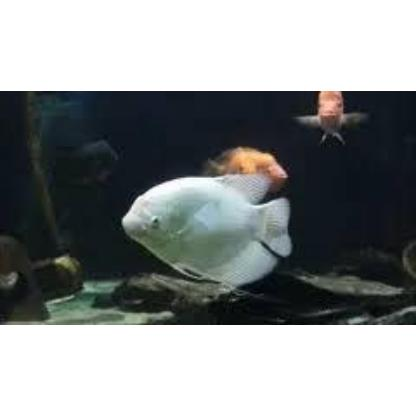gurame: (122, 174, 292, 286)
